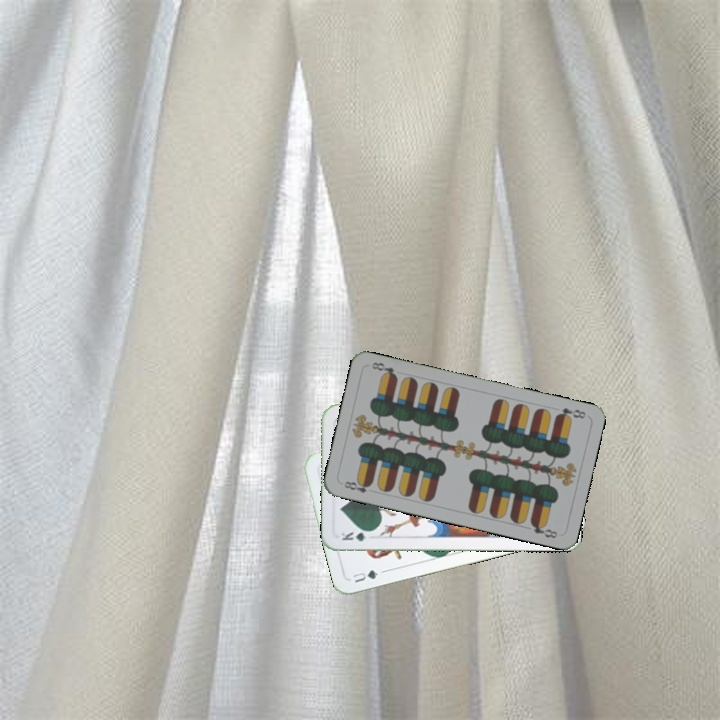E8: (551, 403, 588, 423), (338, 476, 374, 496)
GK: (337, 527, 376, 543)
GU: (349, 566, 381, 585)
